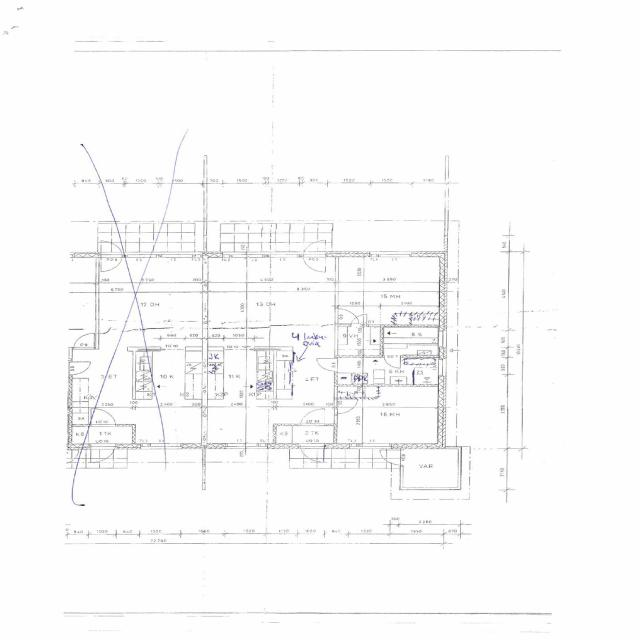door: (300, 443, 324, 466), (303, 251, 325, 273), (303, 235, 325, 257), (300, 407, 324, 426), (334, 398, 358, 414), (334, 308, 358, 324), (379, 450, 403, 465), (316, 358, 337, 371), (351, 313, 367, 327), (384, 355, 400, 369)
